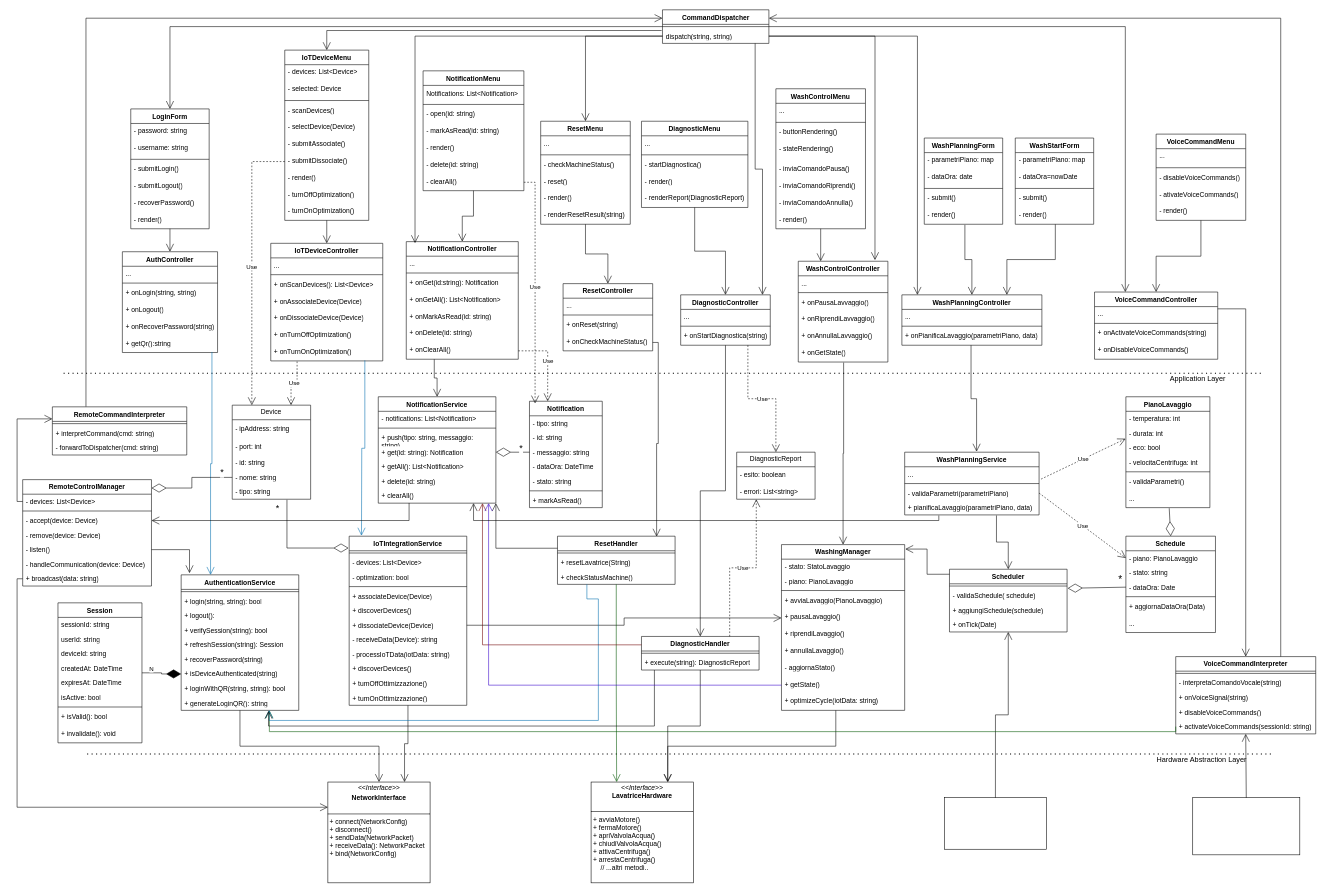
Some shapes in this 1326 by 893 pixel diagram are drawn without their labels. Each missing label, with the centre of its shape:
<<Interface>> Clock - notifyOnTick(): the point at 995,823
<<Interface>> VoiceInputDevice - notifyObserverSignalReceived(): the point at 1246,826
